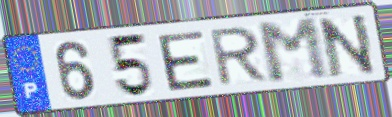5: (102, 32, 155, 100)
6: (53, 39, 98, 103)
E: (154, 28, 217, 93)
M: (253, 15, 334, 86)
N: (315, 11, 379, 80)
R: (208, 24, 271, 89)
